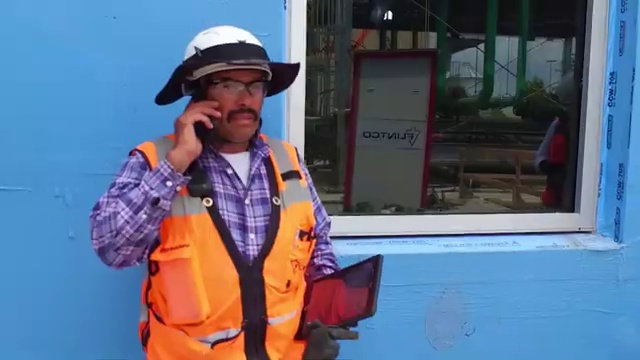helmet: (158, 14, 308, 95)
jacket: (120, 129, 346, 360)
